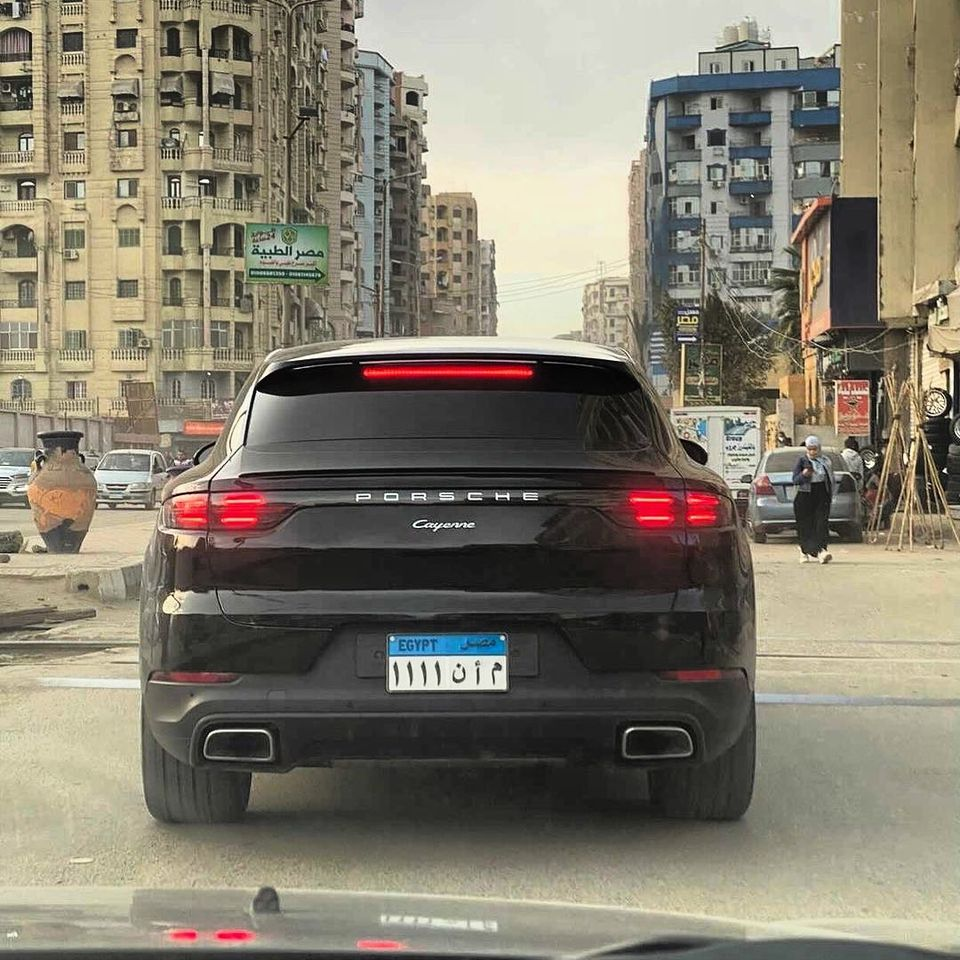carpl: (378, 628, 511, 694)
